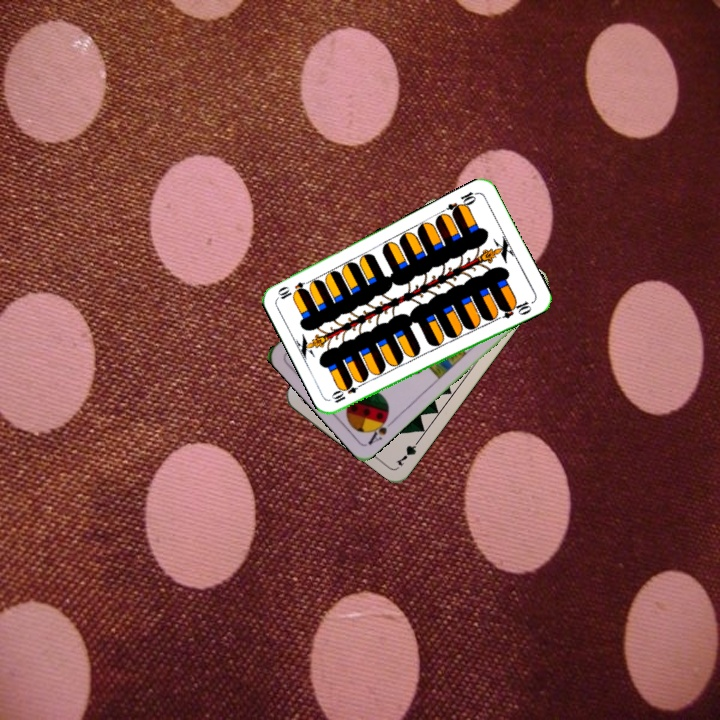E10: (442, 188, 480, 217), (328, 379, 367, 406)
G7: (392, 434, 424, 469)
SA: (364, 411, 397, 447)
